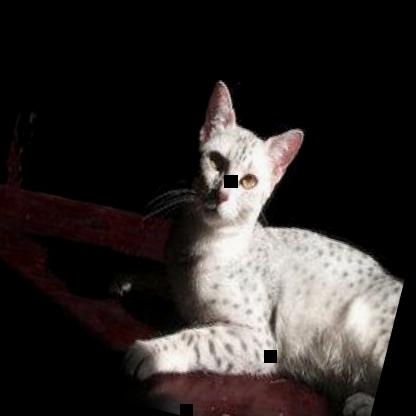cat: (91, 64, 415, 415)
